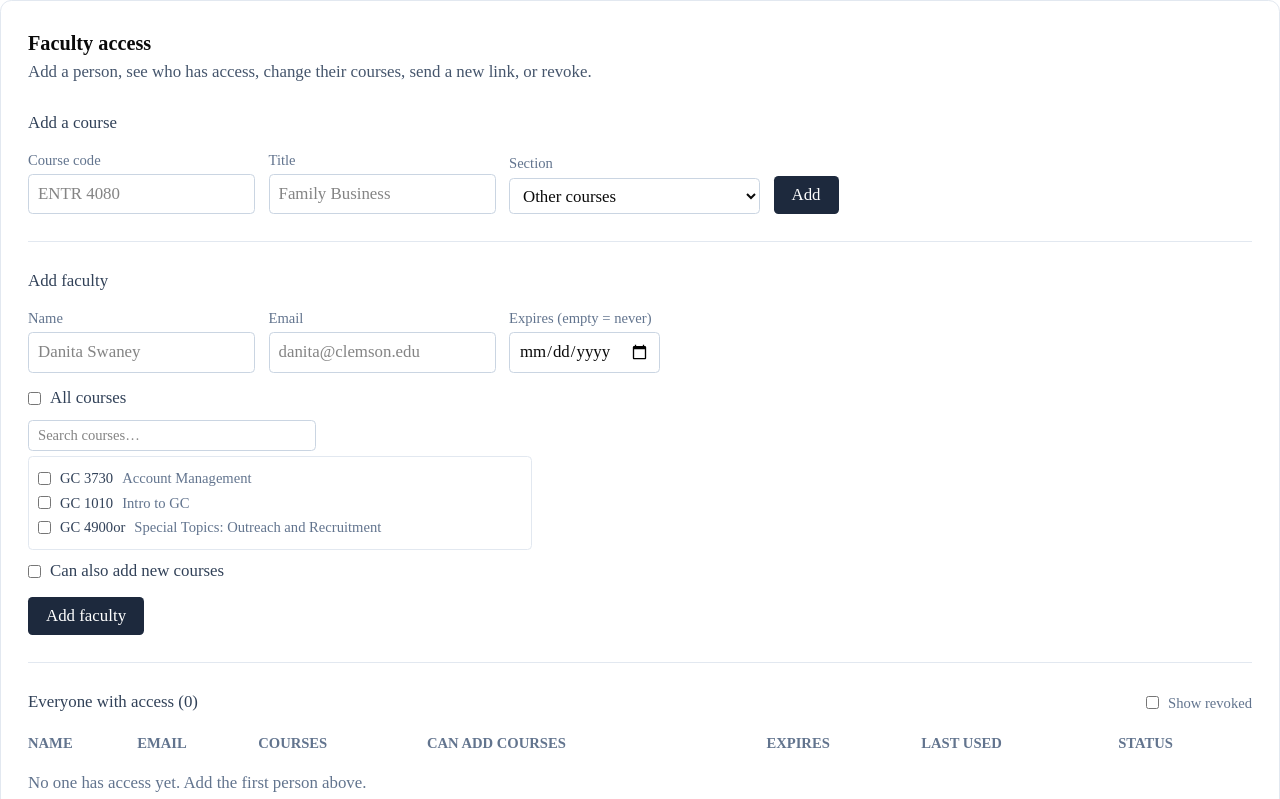
Test case: AccessPanel › picker shortcut: typing an unlisted catalog-shaped code in the course filter offers to add it, and choosing it creates + selects the course
The image size is (1280, 799).
Type "ECON 2120" into the field with placeholder "Search courses…" at (172, 436), box top-left (28, 420), bottom-right (316, 451)
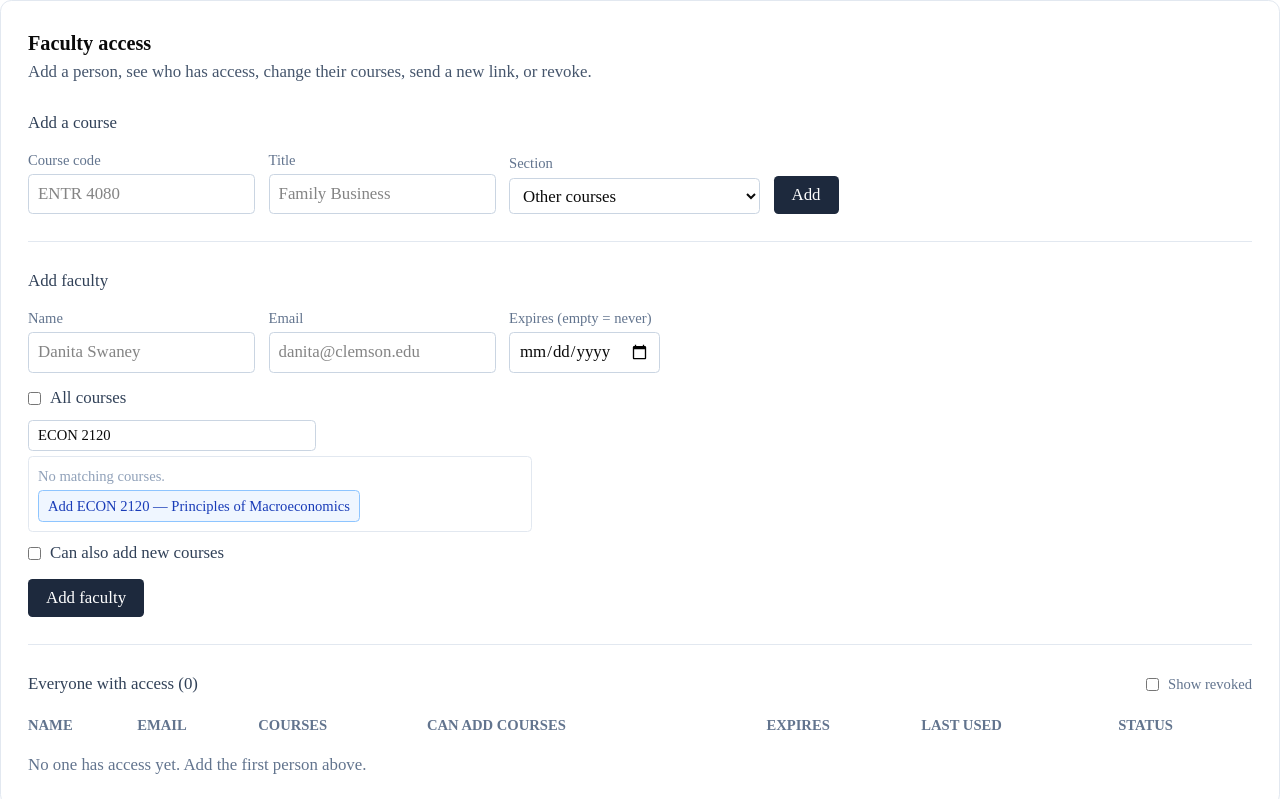
Expected: the button "Add ECON 2120 — Principles of Macroeconomics" is shown
Click the button "Add ECON 2120 — Principles of Macroeconomics" at (199, 506), box top-left (38, 490), bottom-right (360, 522)
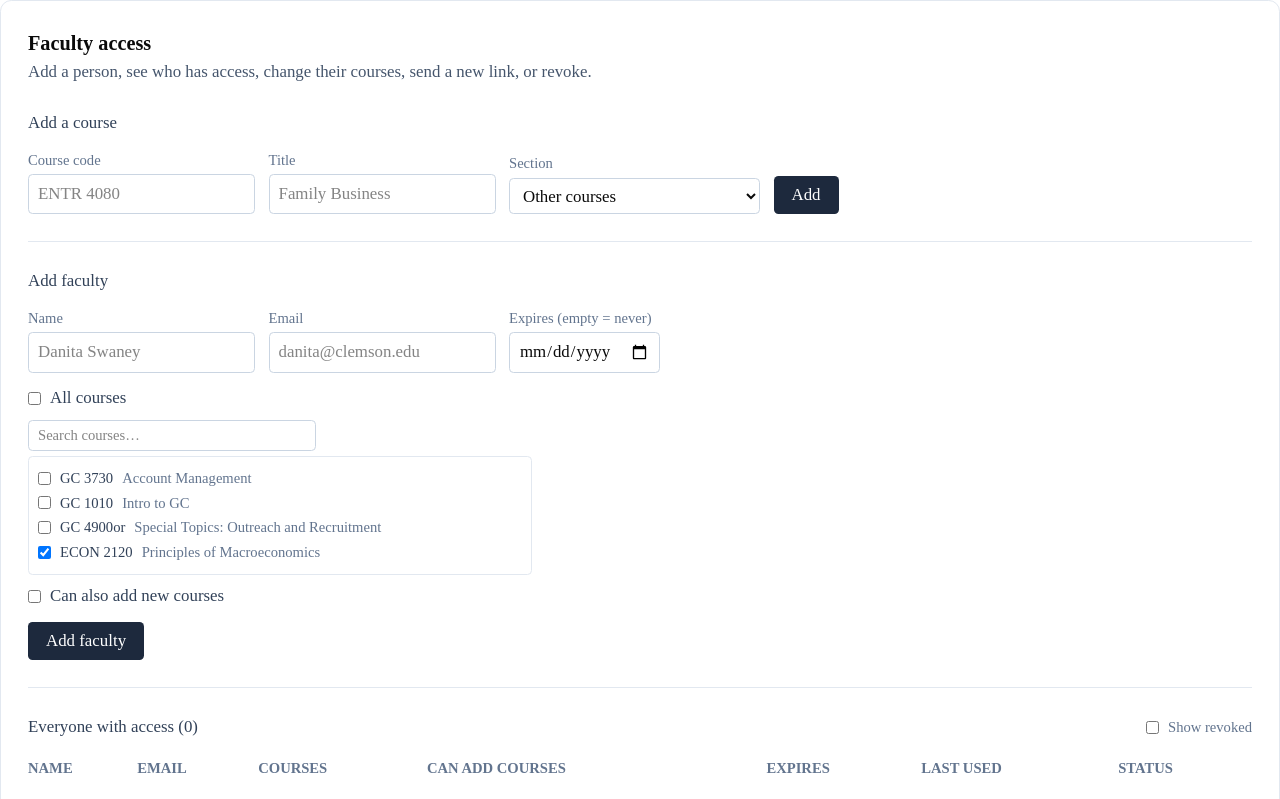
Expected: the checkbox labelled "ECON 2120 Principles of Macroeconomics" is checked, top-left (38, 546), bottom-right (51, 559)
